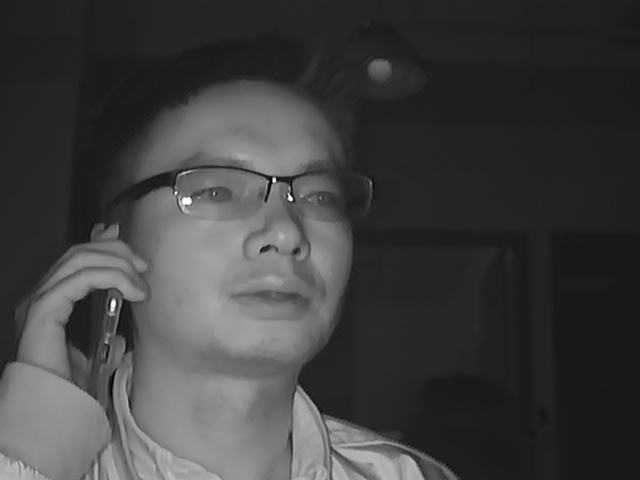hand: (15, 240, 146, 395)
